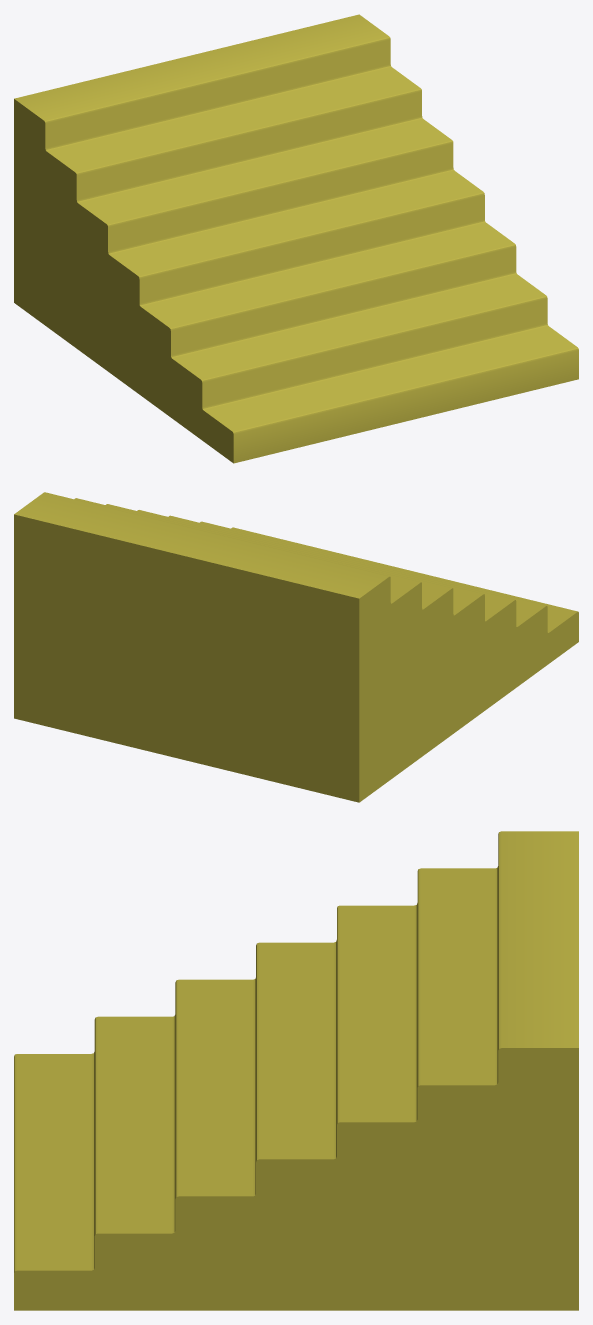
File: SM_staircase_02.fbx
3 renders of one model, top to bottom at view 1: azimuth 30°, elevation 25°; view 2: azimuth 150°, elevation 25°; view 3: azimuth 270°, elevation 25°, orthographic. The views are drawn at different scales.
Parts seen in each view (by area): view 1: Box092; view 2: Box092; view 3: Box092.
Part boxes in pixels (<box>): Box092: <box>14,14,578,463</box>; Box092: <box>14,492,578,802</box>; Box092: <box>14,831,578,1310</box>.
Size of the model in its own units: 125 by 70.78 by 138.
